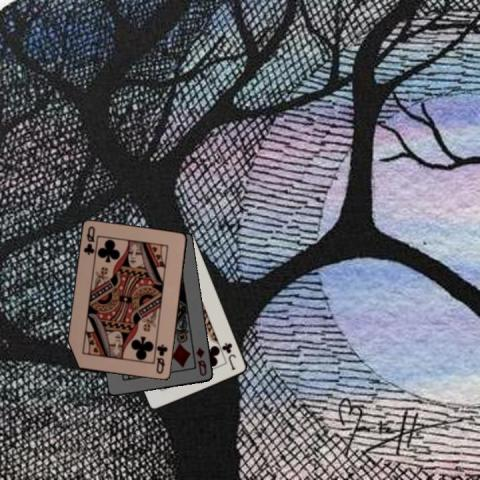Jc: (220, 340, 238, 372)
Qc: (154, 342, 170, 376), (80, 223, 96, 257)
Qd: (193, 344, 208, 377)
